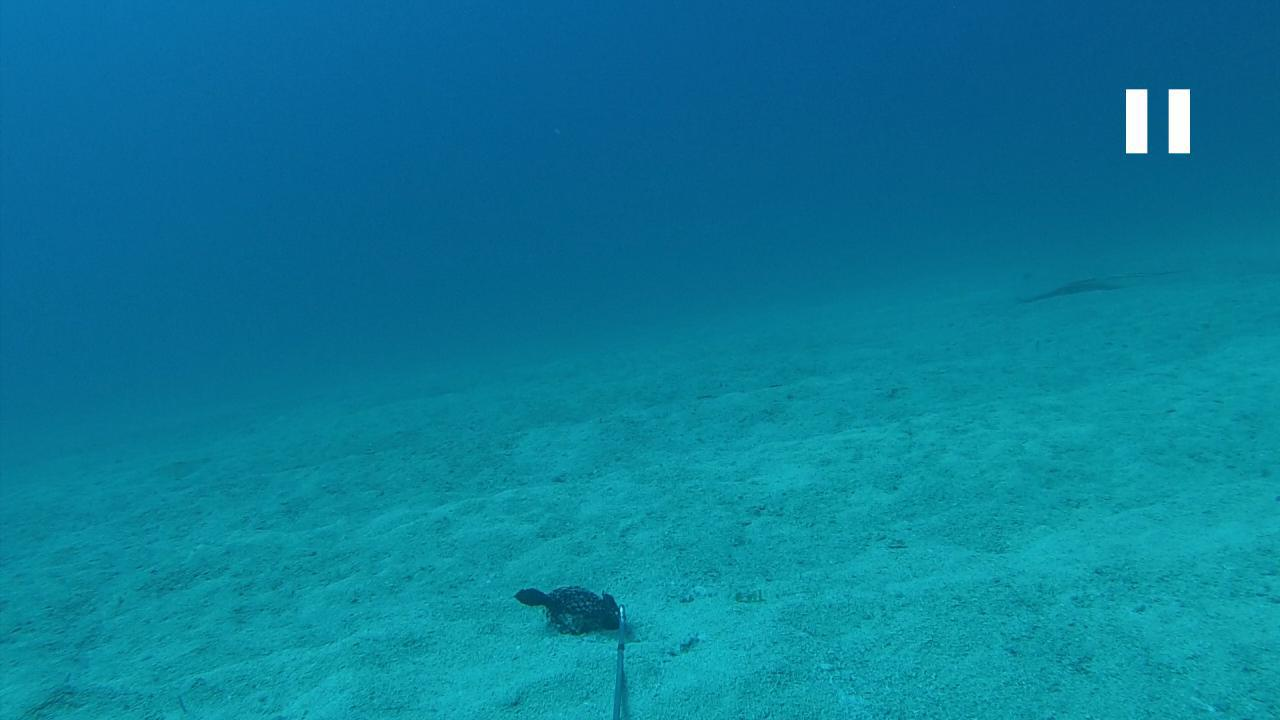dasyatis: (1006, 266, 1190, 302)
